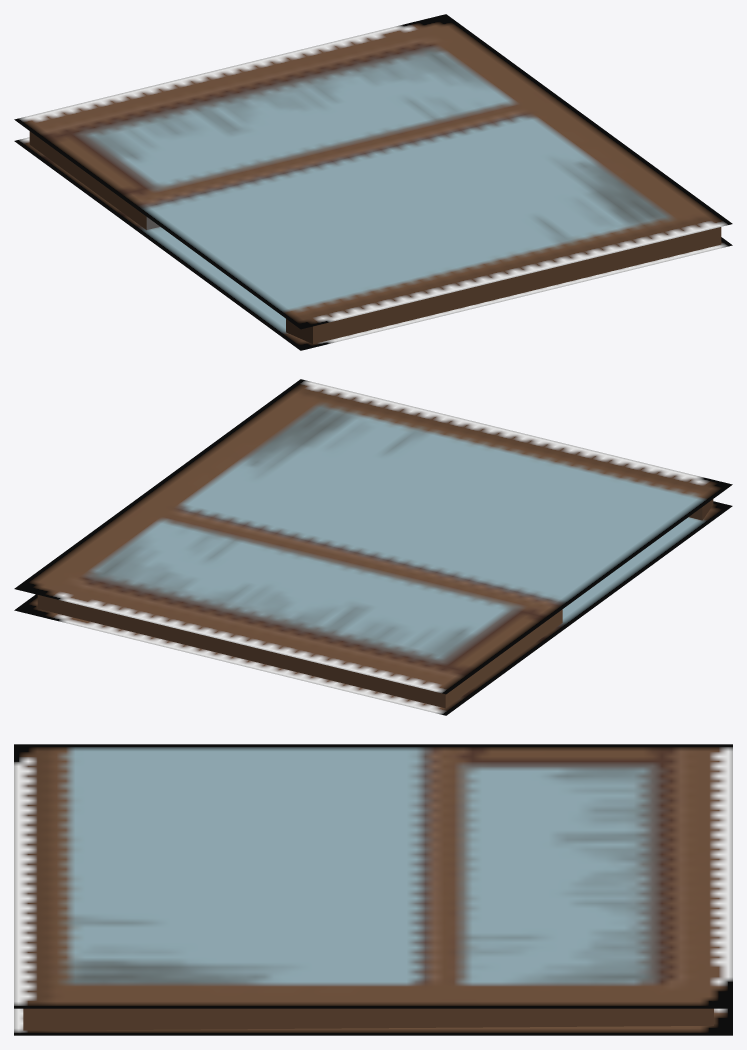
The model's file is pz_native_fixtures_windows_01_43_frame.obj.
3 renders of one model, top to bottom at view 1: azimuth 30°, elevation 25°; view 2: azimuth 150°, elevation 25°; view 3: azimuth 270°, elevation 25°, orthographic. The views are drawn at different scales.
Parts seen in each view (by area): view 1: pz_native_fixtures_windows_01_43_frame; view 2: pz_native_fixtures_windows_01_43_frame; view 3: pz_native_fixtures_windows_01_43_frame.
Boxes of the visible parts, <box> form: pz_native_fixtures_windows_01_43_frame: <box>14,14,732,350</box>; pz_native_fixtures_windows_01_43_frame: <box>14,379,732,715</box>; pz_native_fixtures_windows_01_43_frame: <box>14,744,732,1035</box>.
Bounding box in the file's own units: 0.8438 × 0.04 × 0.9696.
1 material, 1 textured.
